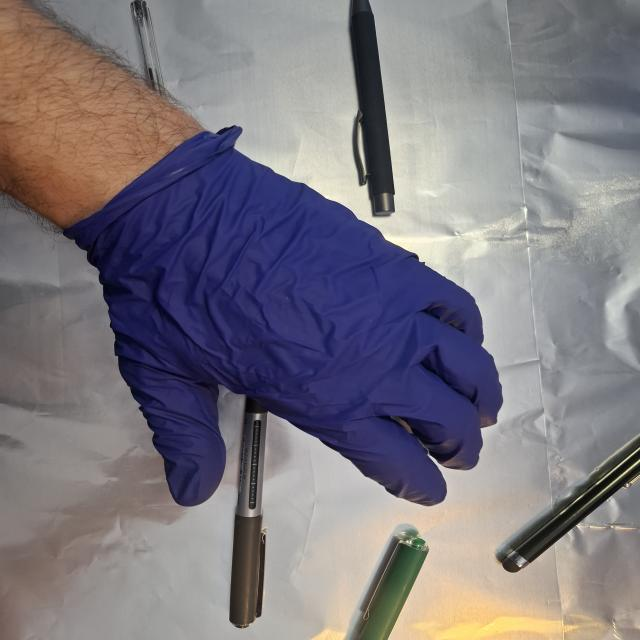glove_on: (72, 128, 506, 511)
